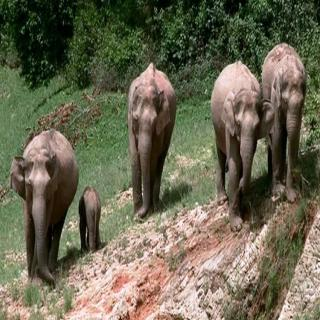Elephant: (207, 54, 278, 235), (8, 125, 82, 288), (125, 56, 180, 222), (261, 38, 309, 204), (75, 181, 108, 258)
